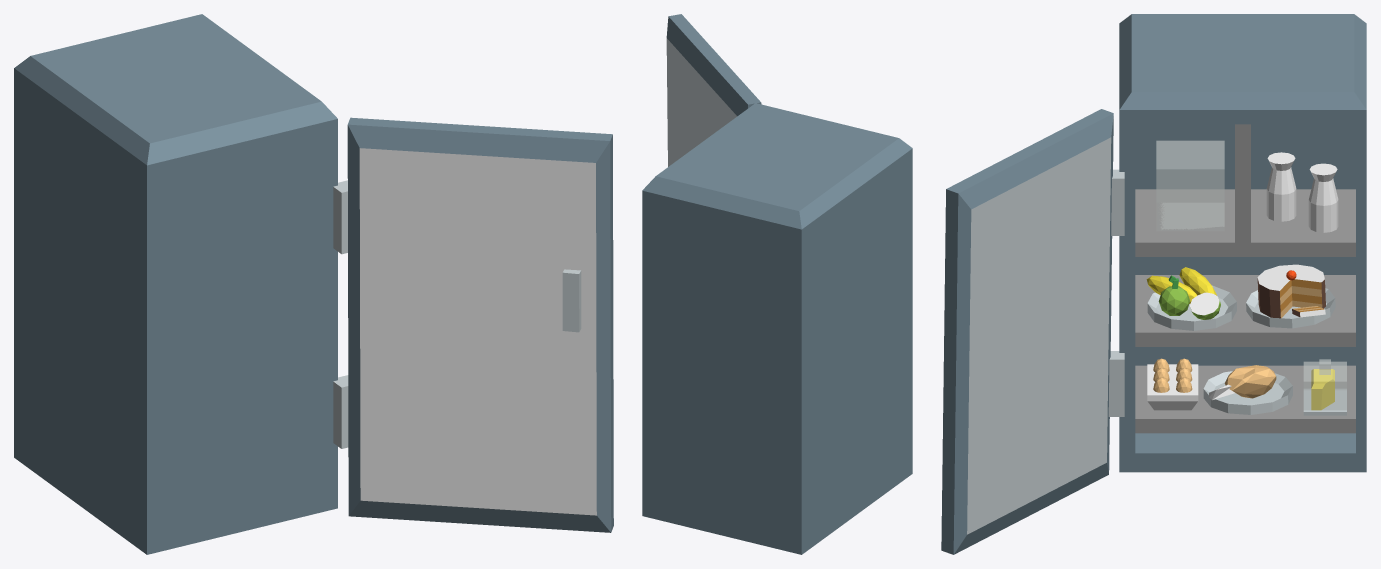
The model's file is Ice Box.glb.
3 renders of one model, left to right at view 1: azimuth 30°, elevation 25°; view 2: azimuth 150°, elevation 25°; view 3: azimuth 270°, elevation 25°, orthographic. The views are drawn at different scales.
Parts seen in each view (by area): view 1: Node; view 2: Node; view 3: Node.
Boxes of the visible parts, bbox=[...] form: Node: bbox=[14, 14, 613, 554]; Node: bbox=[642, 14, 912, 554]; Node: bbox=[941, 14, 1366, 554].
Size of the model in its own units: 0.7742 by 0.7887 by 0.8086.
